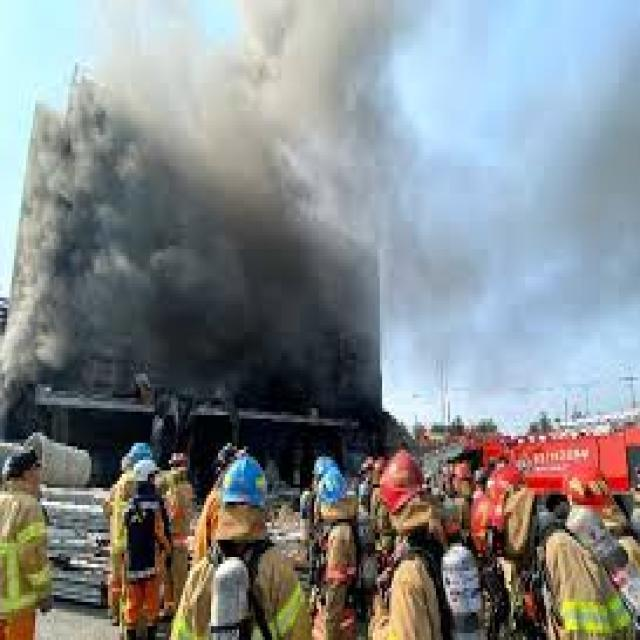Smoke: (54, 36, 264, 365), (241, 0, 419, 204)
